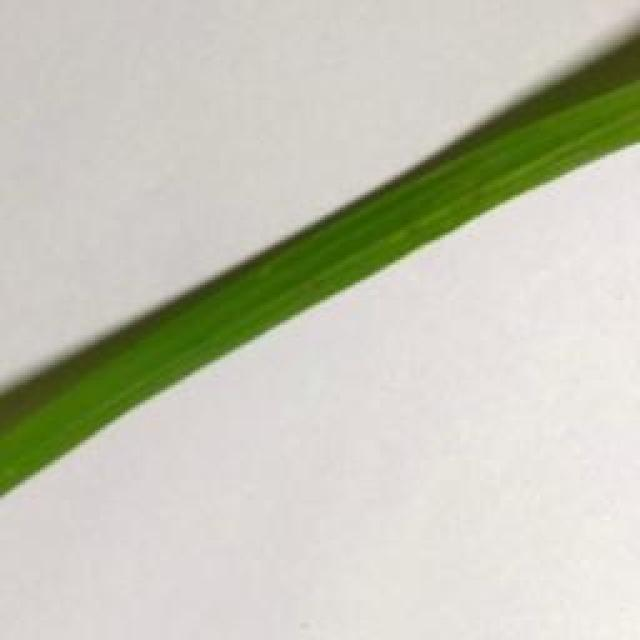Rice_Blast: (229, 57, 640, 251)
